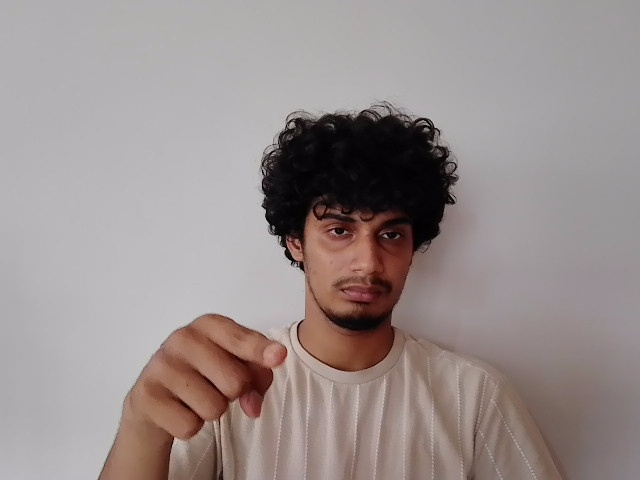you: (120, 312, 290, 451)
